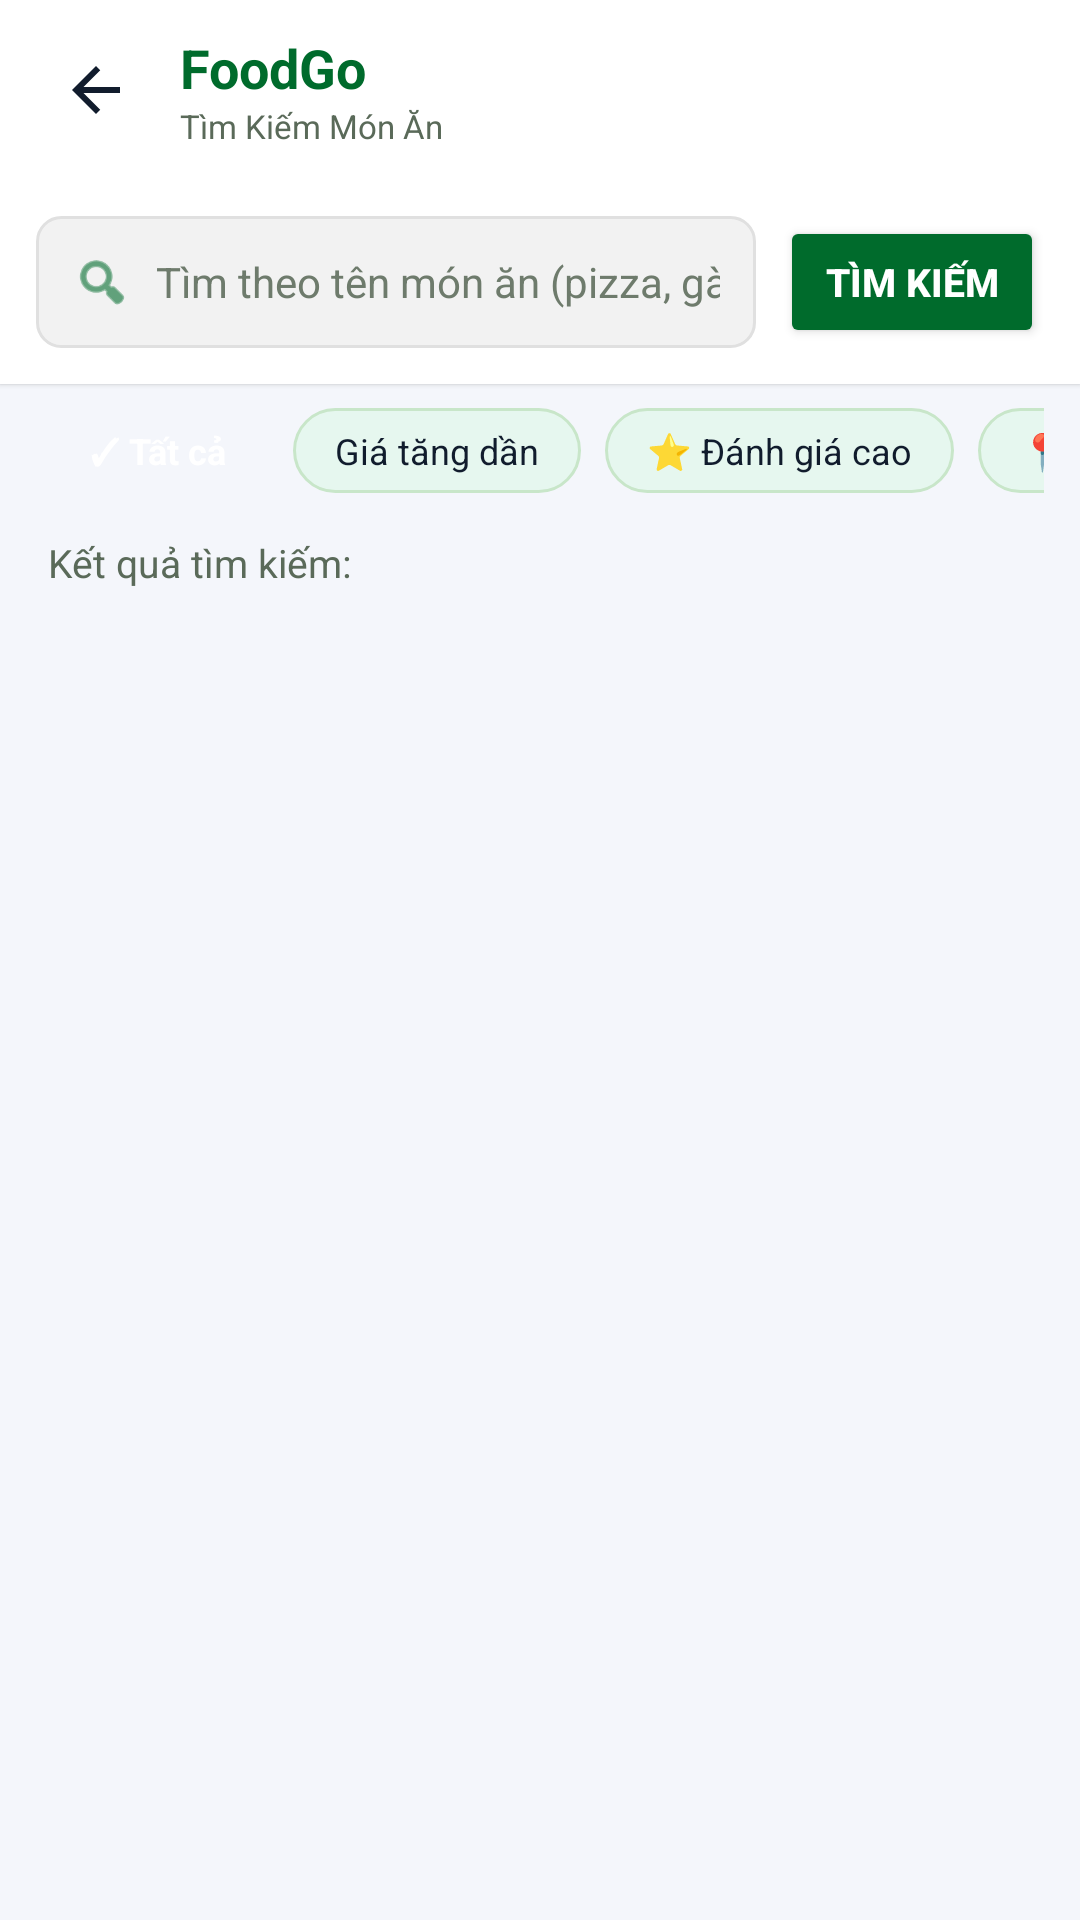

Where icons sit on this 1080 × 1920 app screen, as (x1,y1,x2,y2):
Quay lại: (72,66,120,114)
Search Icon: (80,260,124,305)
